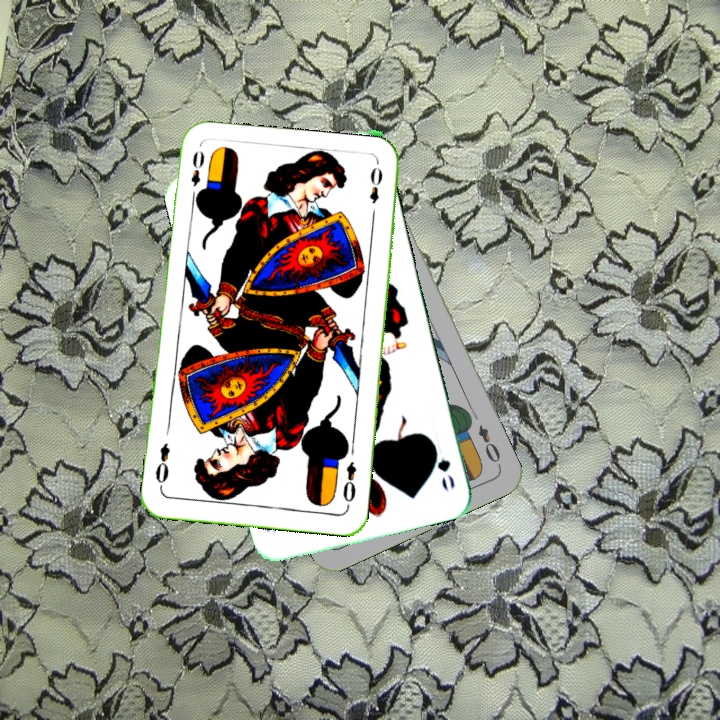EO: (474, 421, 504, 470), (186, 146, 207, 204), (338, 458, 359, 510)
GO: (426, 436, 458, 494)
